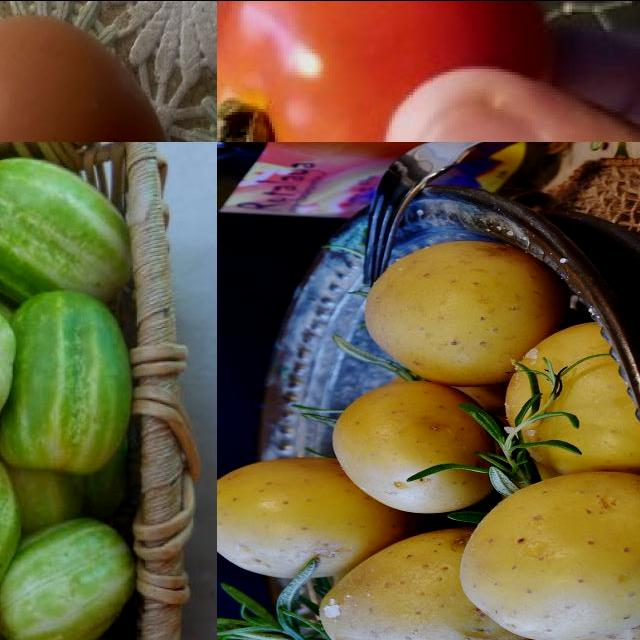egg: (1, 12, 174, 142)
potato: (457, 476, 640, 640), (364, 237, 569, 381), (328, 376, 496, 512), (218, 455, 399, 580), (506, 319, 640, 474), (315, 540, 515, 640)
tomato: (218, 1, 568, 142)
